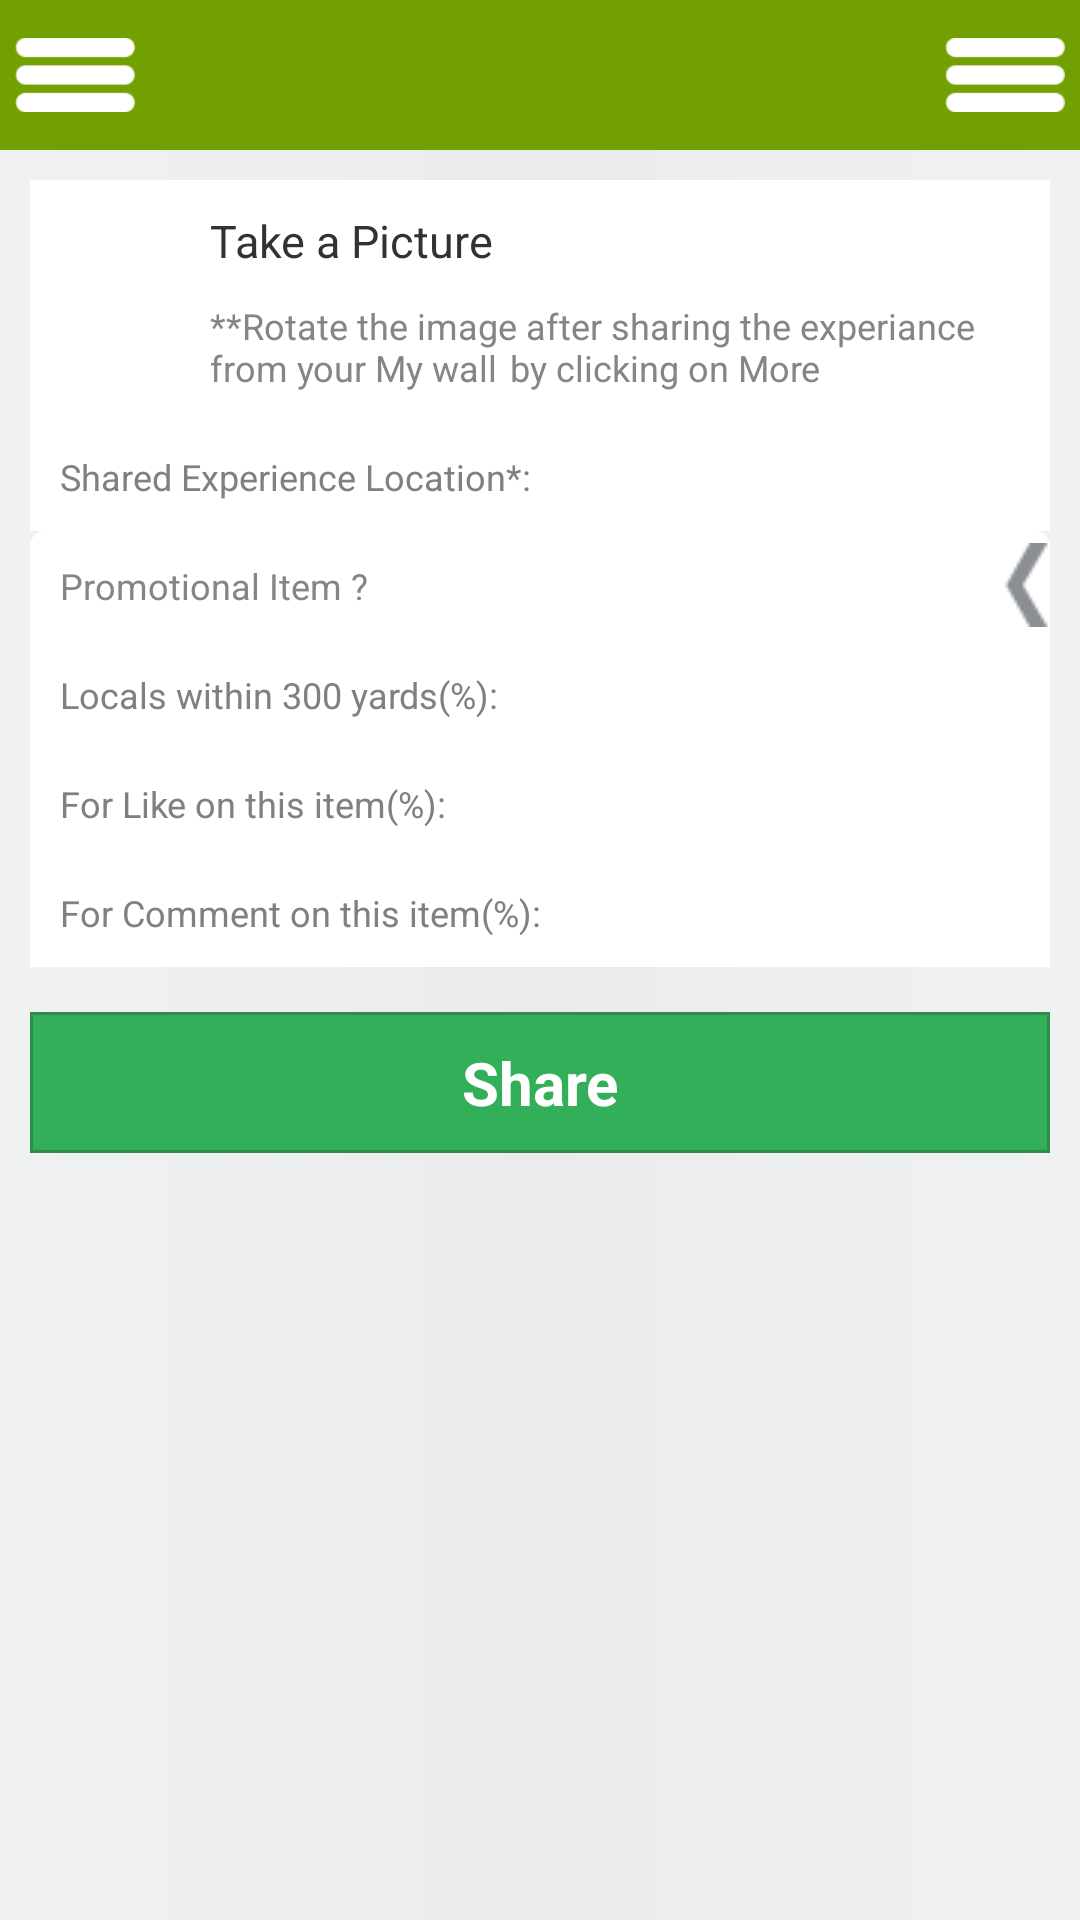

Icons on this 1080w x 1920h Android screen, each with the point to tap as point (x, y):
back: point (1026, 585)
